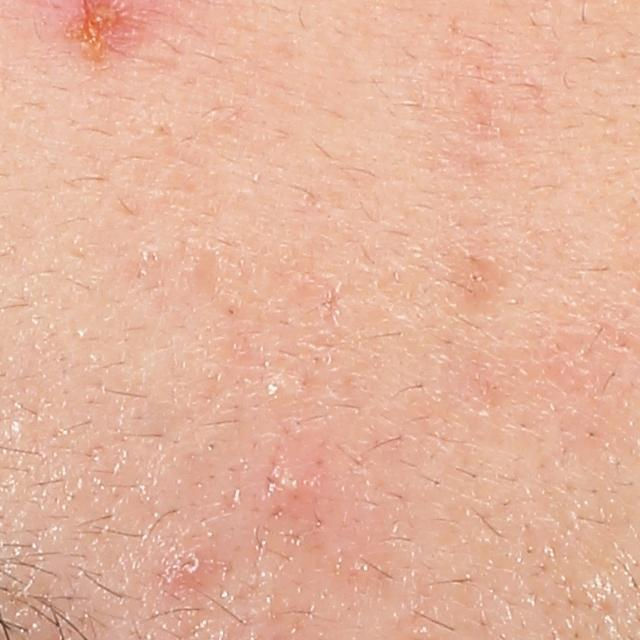papule: (170, 545, 211, 589)
